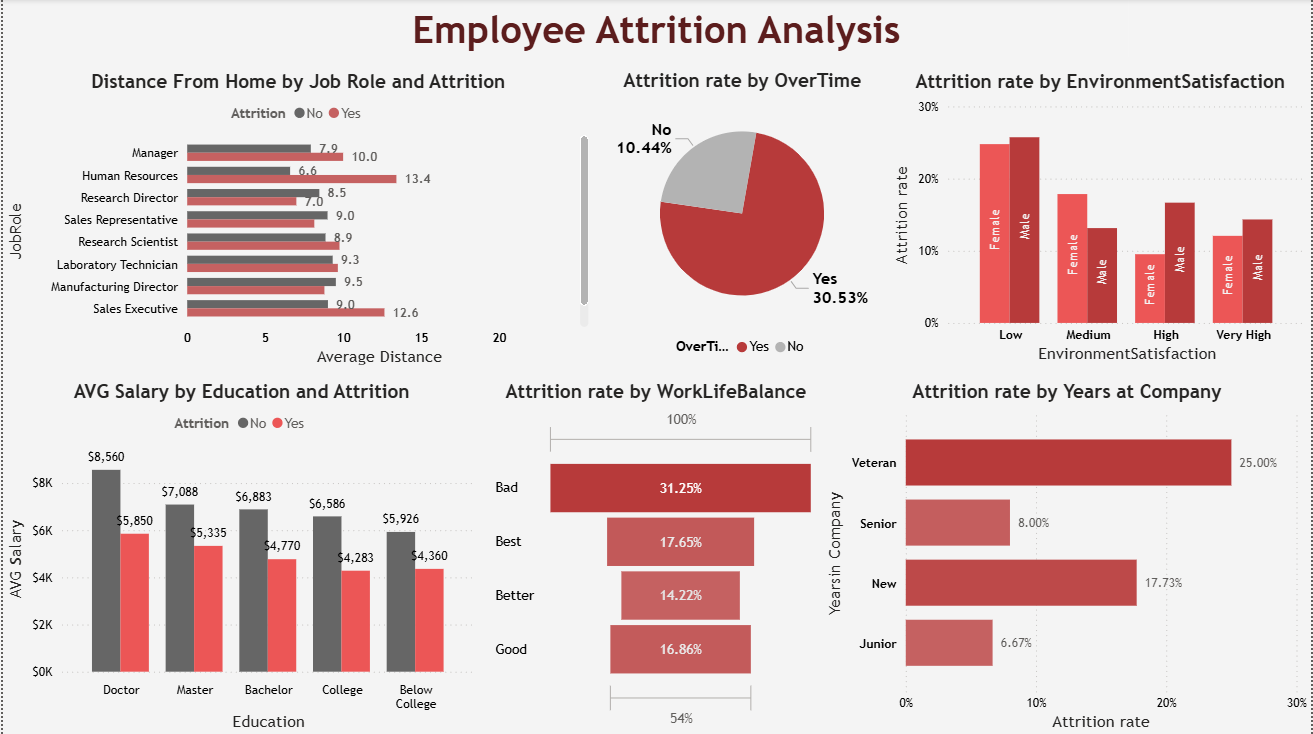

What the dashboard file says about the page in this screenshot:
{"tool":"powerbi","page":{"name":"Employee Attrition Analysis","canvas":[1280,720],"ordinal":1},"visuals":[{"type":"card","fields":{"Values":["Measures..title page 2"]},"box":[177.5,0,924,56.6],"z":0},{"type":"clusteredBarChart","title":"Distance From Home by Job Role and Attrition","fields":{"Category":["Employee.JobRole"],"Series":["Employee.Attrition"],"Y":["Measures..Average Distance"]},"box":[0,69.2,577.8,293.3],"z":1000},{"type":"clusteredColumnChart","title":"AVG Salary by Education and Attrition","fields":{"Y":["Measures..AVG Salary"],"Category":["Employee.Education"],"Series":["Employee.Attrition"]},"box":[0,372.6,467,347.4],"z":2000},{"type":"pieChart","title":"Attrition rate by OverTime","fields":{"Y":["Measures..Attrition rate"],"Category":["Employee.OverTime"]},"box":[577.8,69,289.5,290.8],"z":3000},{"type":"clusteredColumnChart","title":"Attrition rate by EnvironmentSatisfaction","fields":{"Category":["Employee.EnvironmentSatisfaction"],"Y":["Measures..Attrition rate"],"Series":["Employee.Gender"]},"box":[867.4,69.2,412.9,290.8],"z":4000},{"type":"funnel","fields":{"Y":["Measures..Attrition rate"],"Category":["Employee.WorkLifeBalance"]},"box":[477.1,372.6,323.5,347.4],"z":5000},{"type":"clusteredBarChart","title":"Attrition rate by Years at Company","fields":{"Y":["Measures..Attrition rate"],"Category":["Employee.Yearsin Company"]},"box":[800.6,372.6,479.6,347.4],"z":6000}]}

Visuals, with their boxes in screenshot pixels (x1, y1, x2, y2), scaled from the page's 1280x720 canvas onto the 1313x734 screenshot:
card - Measures..title page 2: region(182, 0, 1130, 58)
"Distance From Home by Job Role and Attrition" clusteredBarChart: region(0, 71, 593, 370)
"AVG Salary by Education and Attrition" clusteredColumnChart: region(0, 380, 479, 733)
"Attrition rate by OverTime" pieChart: region(593, 70, 890, 367)
"Attrition rate by EnvironmentSatisfaction" clusteredColumnChart: region(890, 71, 1312, 367)
funnel - Measures..Attrition rate x Employee.WorkLifeBalance: region(489, 380, 821, 733)
"Attrition rate by Years at Company" clusteredBarChart: region(821, 380, 1312, 733)
